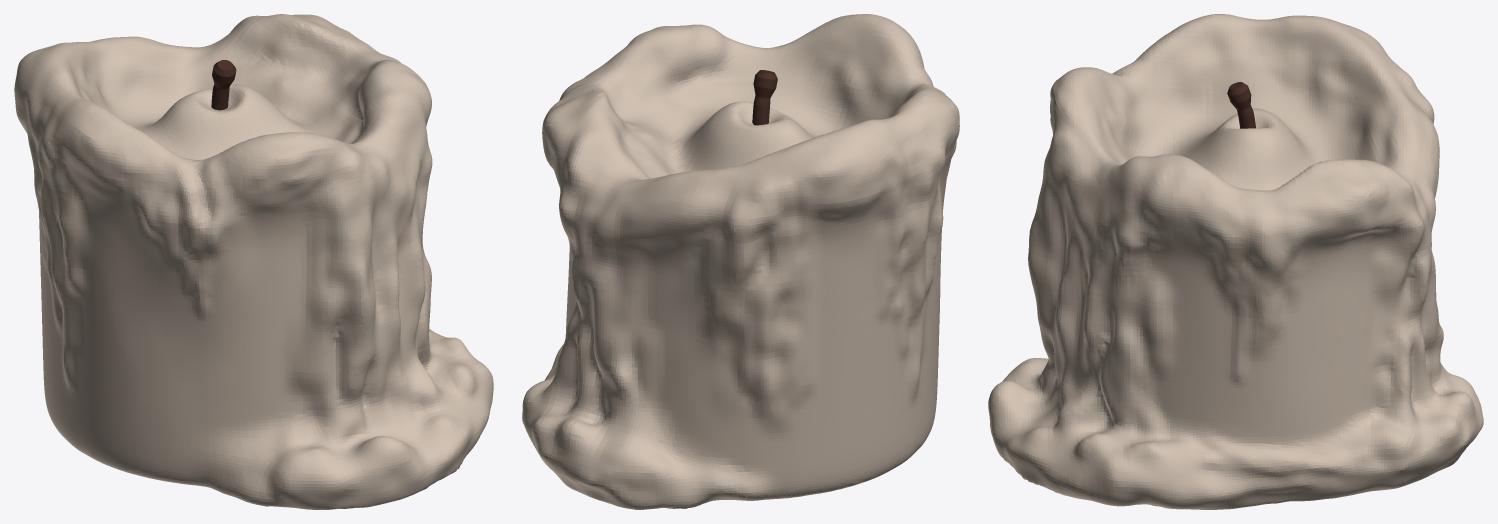
Rendered from Canndle.fbx.
3 views of the same model, side by side, from view 1: azimuth 30°, elevation 25°; view 2: azimuth 150°, elevation 25°; view 3: azimuth 270°, elevation 25° (orthographic). The views are drawn at different scales.
Parts seen in each view (by area): view 1: Cylinder; view 2: Cylinder; view 3: Cylinder.
Boxes of the visible parts, x1,y1,x2,y2 form: Cylinder: (14, 14, 493, 509); Cylinder: (522, 14, 959, 509); Cylinder: (988, 14, 1483, 509).
Size of the model in its own units: 236 by 212 by 275.
